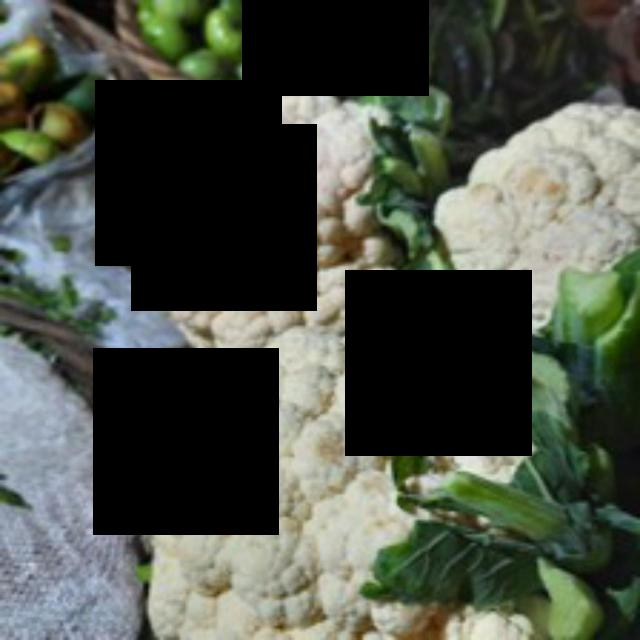cauliflower: (71, 317, 548, 637), (117, 89, 417, 355), (420, 80, 637, 331)
